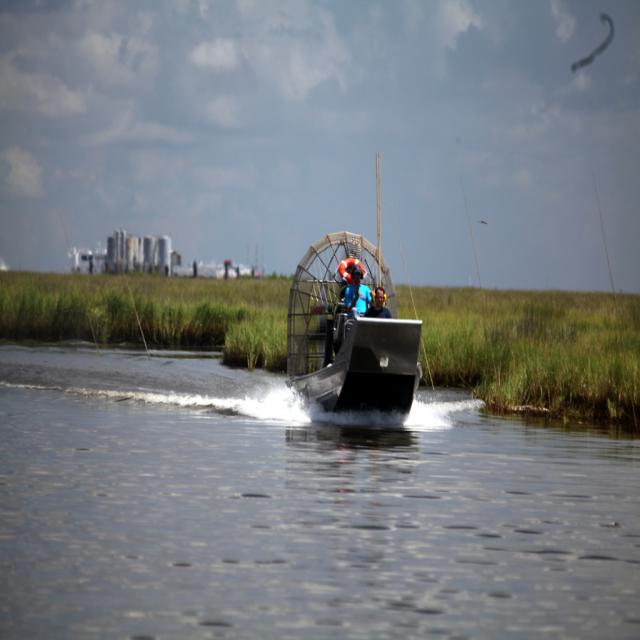Boat: (280, 218, 426, 429)
